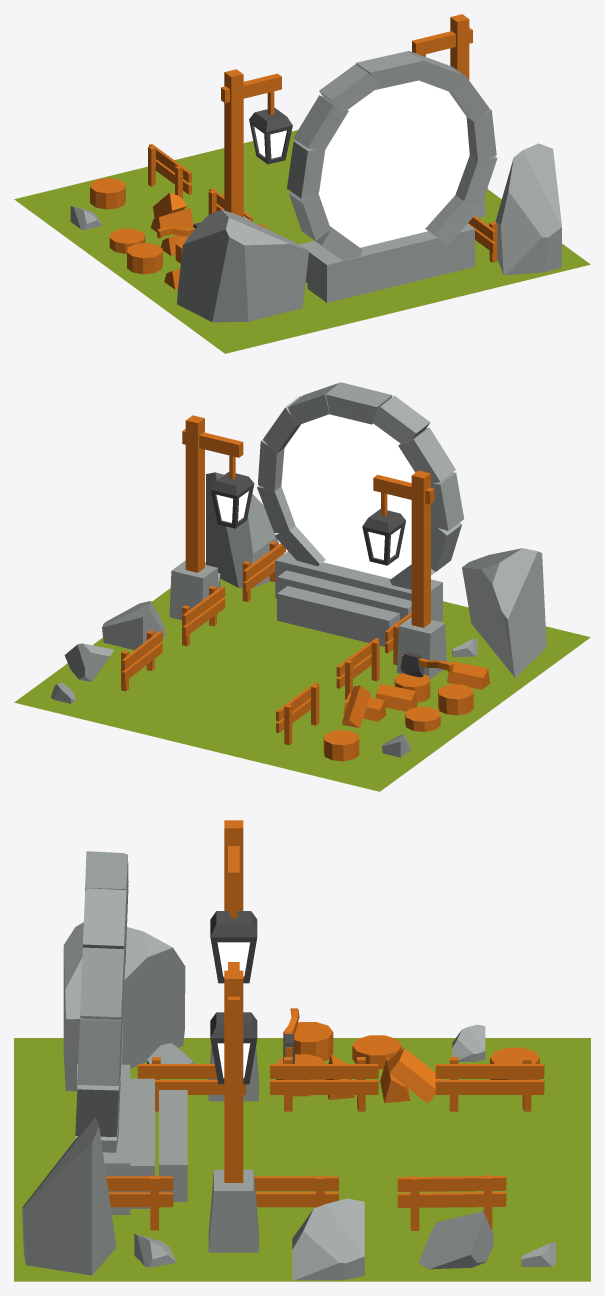
Rendered from portal.glb.
3 renders of one model, top to bottom at view 1: azimuth 30°, elevation 25°; view 2: azimuth 150°, elevation 25°; view 3: azimuth 270°, elevation 25°, orthographic. The views are drawn at different scales.
Parts seen in each view (by area): view 1: Plane, portalLight, Cube.033, Cube.050, Cube.032, Cube.021, Cube.004, Cube.046, Cube.044, Cube.047, Cube.045, Cube.022 (+16 smaller); view 2: Plane, portalLight, Cube.033, Cube.030, Cube.032, Cube.021, Cube.004, Cube.050, Cube.049, Cube.037, Cube.020, Cube.044 (+27 smaller); view 3: Plane, Cube.032, Cube.033, Cube.037, Cube.004, Cube.006, Cube.010, Cube.013, Cube.002, Cube.035, Cube.042, Cube.030 (+23 smaller).
Boxes of the visible parts, x1,y1,x2,y2 form: Plane: [14, 130, 590, 353]; portalLight: [318, 80, 469, 247]; Cube.033: [177, 209, 308, 322]; Cube.050: [307, 223, 474, 302]; Cube.032: [495, 143, 561, 274]; Cube.021: [221, 69, 281, 217]; Cube.004: [412, 14, 472, 80]; Cube.046: [293, 95, 348, 149]; Cube.044: [356, 51, 423, 89]; Cube.047: [287, 140, 325, 198]; Cube.045: [319, 64, 379, 113]; Cube.022: [249, 107, 292, 164]; Plane: [14, 562, 590, 791]; portalLight: [281, 414, 415, 578]; Cube.033: [462, 548, 546, 677]; Cube.030: [277, 586, 399, 646]; Cube.032: [206, 472, 278, 588]; Cube.021: [373, 470, 434, 627]; Cube.004: [182, 415, 243, 572]; Cube.050: [275, 551, 442, 621]; Cube.049: [277, 570, 411, 620]; Cube.037: [102, 601, 165, 650]; Cube.020: [397, 617, 446, 679]; Cube.044: [326, 382, 392, 424]; Plane: [14, 1038, 590, 1281]; Cube.032: [22, 1117, 116, 1275]; Cube.033: [63, 922, 185, 1091]; Cube.037: [292, 1198, 364, 1280]; Cube.004: [224, 962, 243, 1182]; Cube.006: [397, 1175, 506, 1230]; Cube.010: [435, 1057, 544, 1111]; Cube.013: [270, 1057, 378, 1111]; Cube.002: [208, 1169, 258, 1252]; Cube.035: [419, 1211, 493, 1269]; Cube.042: [80, 947, 125, 1023]; Cube.030: [159, 1090, 187, 1201].
Bounding box in the file's own units: 4 × 2.31 × 4.
